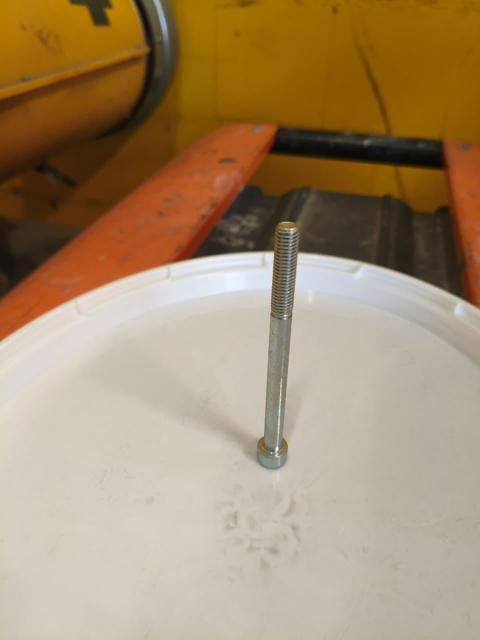Metal: (255, 220, 307, 468)
